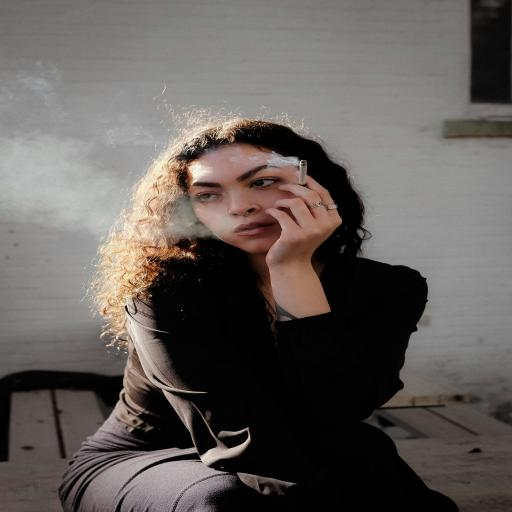terdeteksi pegang rokok: (247, 145, 348, 236)
